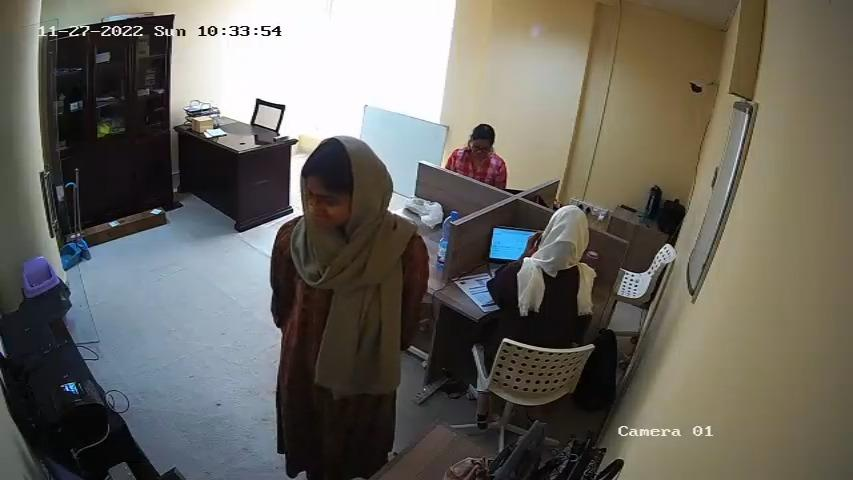no_apron: (281, 237, 391, 443)
